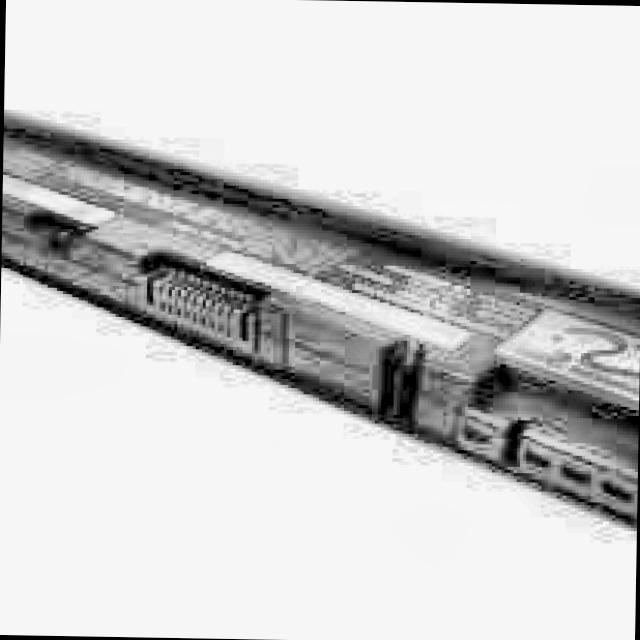Battery: (0, 103, 640, 534)
